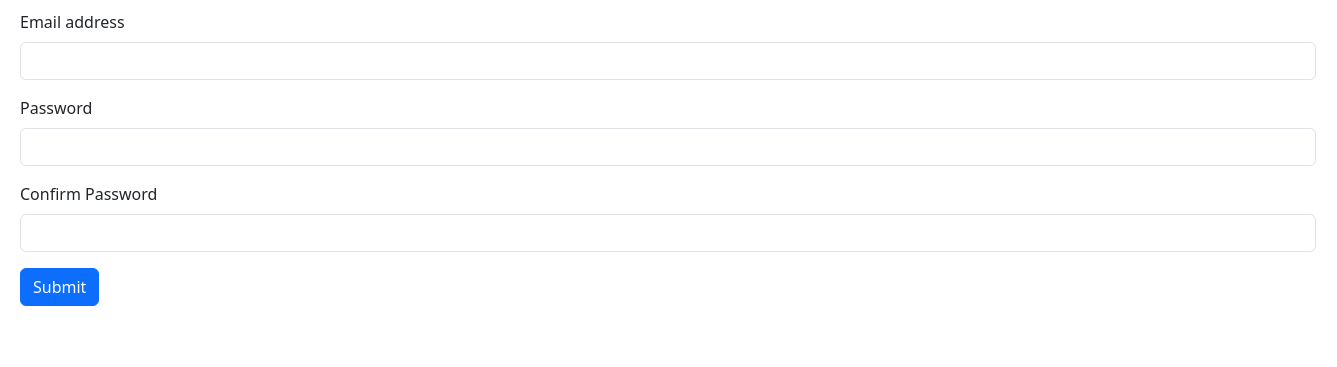
Scenario: App component › should show email error message on invalid email
Type "testgmail.com" into the field at (668, 61), box [20,42,1316,80]
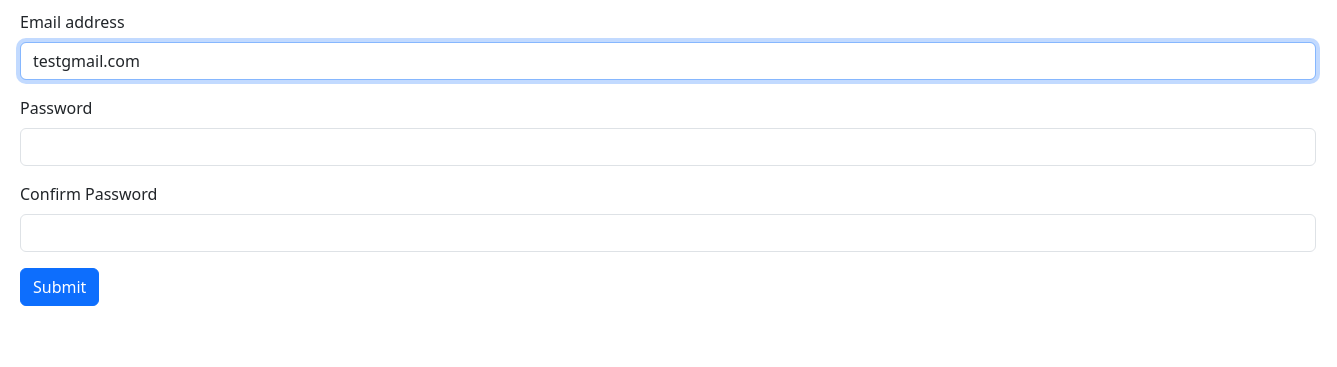
Click the button at (60, 287), box [20,268,99,306]
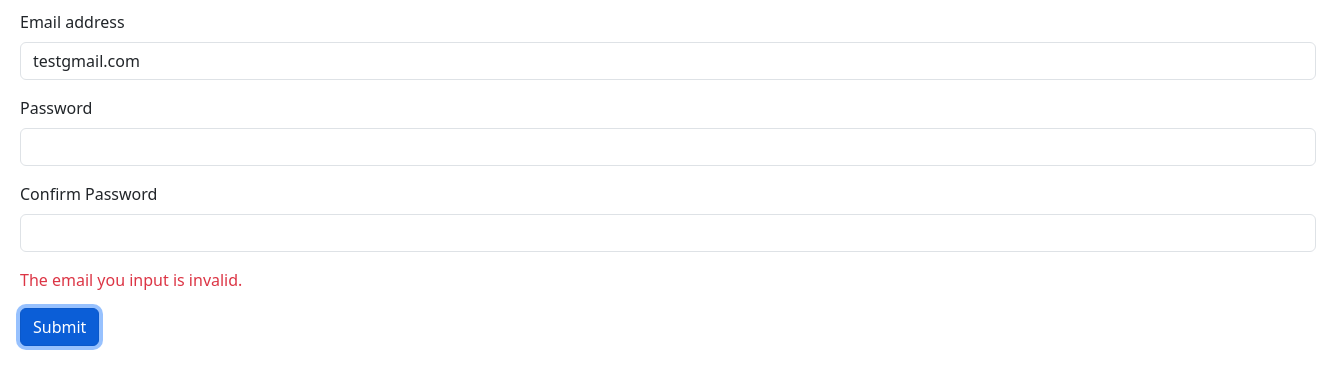
Check: the text "The email you input is invalid." is shown, box [20,269,242,291]
